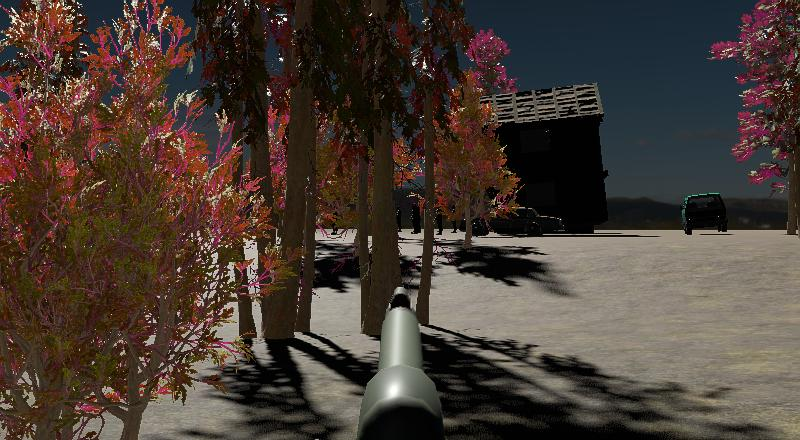Tank: (461, 198, 568, 237)
